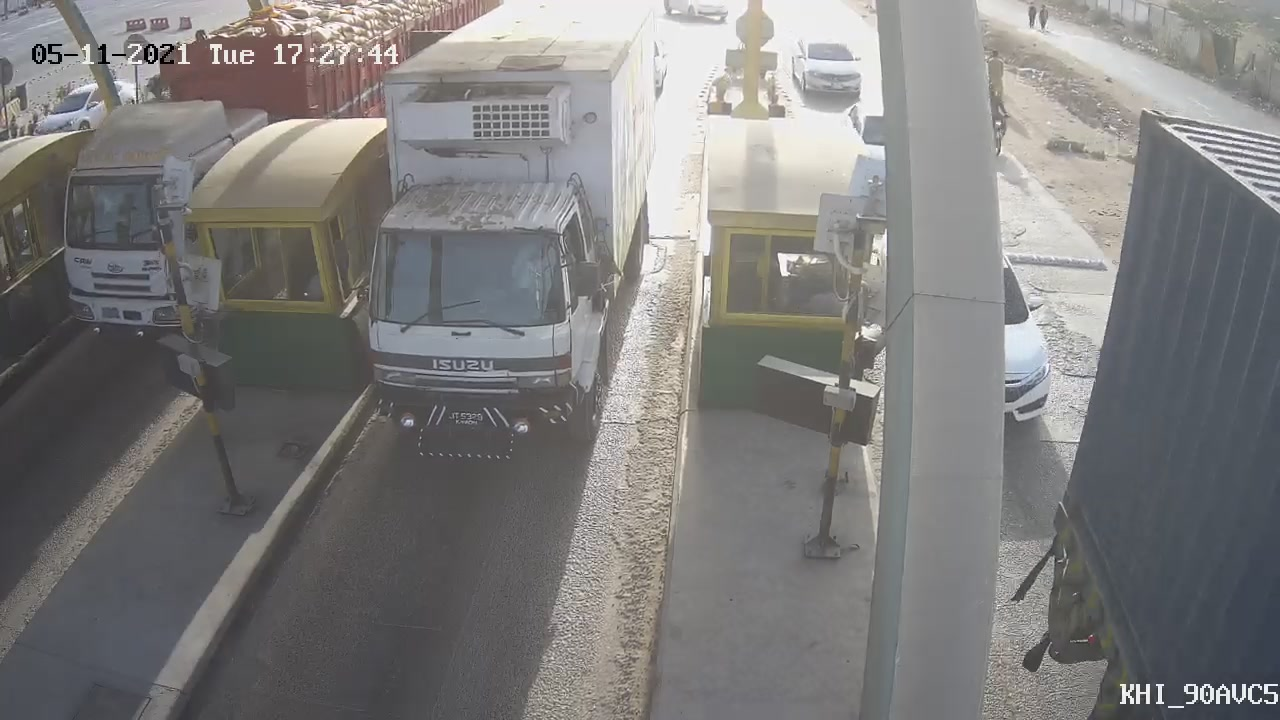F5: (309, 1, 679, 491)
